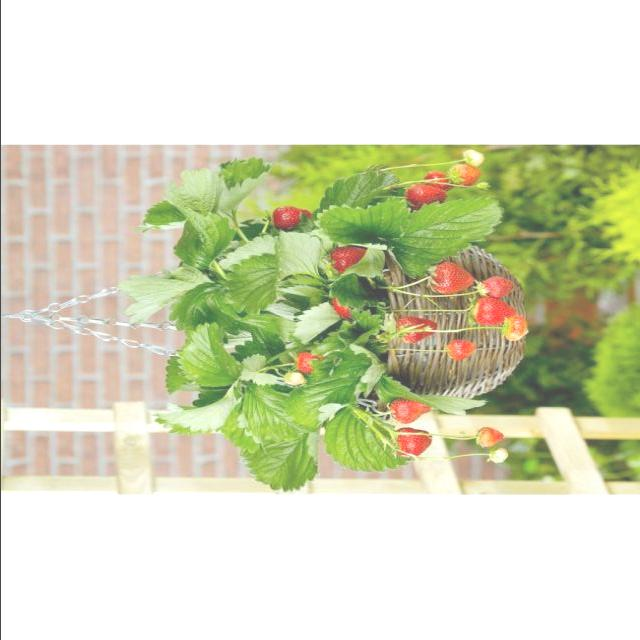ripe: (419, 260, 477, 298), (382, 424, 433, 466), (388, 311, 438, 345), (382, 393, 427, 430), (322, 243, 369, 276), (465, 296, 513, 328), (266, 202, 312, 232), (397, 185, 443, 211), (323, 290, 357, 324), (447, 160, 480, 190), (441, 336, 476, 364), (480, 272, 516, 299), (471, 424, 503, 450), (414, 169, 450, 189), (292, 347, 320, 372), (504, 315, 532, 340)
unripe: (480, 444, 510, 472), (453, 146, 482, 168), (280, 370, 306, 390)
